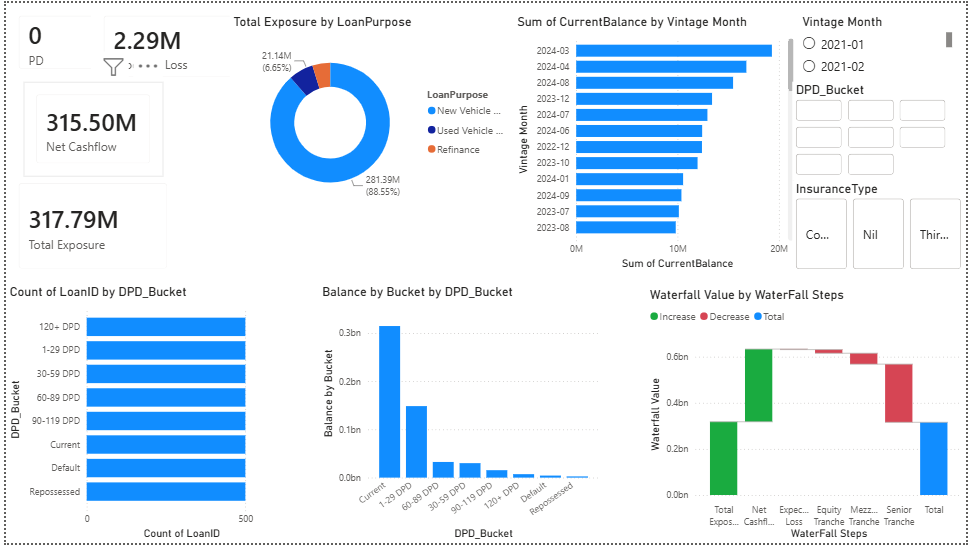

The dashboard page shown, as its layout file describes it:
{"tool":"powerbi","page":{"name":"Investor Reporting Dashboard","canvas":[1280,720],"ordinal":6},"visuals":[{"type":"cardVisual","fields":{"Data":["auto_loan_securitisation_data.PD"]},"box":[0,0,150.4,105.2],"z":0},{"type":"cardVisual","fields":{"Data":["auto_loan_securitisation_data.Total Exposure"]},"box":[0,223.6,232.7,148.2],"z":1000},{"type":"cardVisual","fields":{"Data":["auto_loan_securitisation_data.Expected Loss"]},"box":[112.5,0,212.8,116.2],"z":2000},{"type":"cardVisual","fields":{"Data":["auto_loan_securitisation_data.Net Cashflow"]},"box":[23.6,105.5,186.4,126.4],"z":3000},{"type":"donutChart","fields":{"Y":["auto_loan_securitisation_data.Total Exposure"],"Category":["auto_loan_securitisation_data.LoanPurpose"]},"box":[298.4,14.7,379.1,270.2],"z":4000},{"type":"clusteredBarChart","fields":{"Category":["dpd_snapshot_history.DPD_Bucket"],"Y":["CountNonNull(auto_loan_securitisation_data.LoanID)"]},"box":[0,375.4,376.6,344.8],"z":5000},{"type":"columnChart","fields":{"Category":["dpd_snapshot_history.DPD_Bucket"],"Y":["auto_loan_securitisation_data.Balance by Bucket"]},"box":[417,375.4,379.1,344.8],"z":6000},{"type":"barChart","fields":{"Category":["auto_loan_securitisation_data.Vintage Month"],"Y":["Sum(auto_loan_securitisation_data.CurrentBalance)"]},"box":[677.4,14.7,379.1,344.8],"z":7000},{"type":"waterfallChart","fields":{"Y":["auto_loan_securitisation_data.Waterfall Value"],"Category":["Table.WaterFall Steps"]},"box":[853.5,377.9,426.8,342.4],"z":8000},{"type":"listSlicer","fields":{"Values":["auto_loan_securitisation_data.Vintage Month"]},"box":[1056.5,14.7,210.3,90.5],"z":9000},{"type":"advancedSlicerVisual","fields":{"Values":["dpd_snapshot_history.DPD_Bucket"]},"box":[1048,105.2,210.3,130.8],"z":10000},{"type":"advancedSlicerVisual","fields":{"Values":["auto_loan_securitisation_data.InsuranceType"]},"box":[1048,236,232.3,123.5],"z":11000}]}

Visuals, with their boxes in screenshot pixels (x1, y1, x2, y2), scaled from the page's 1280x720 canvas onto the 971x546 screenshot:
cardVisual - auto_loan_securitisation_data.PD: 0,0,114,80
cardVisual - auto_loan_securitisation_data.Total Exposure: 0,170,177,282
cardVisual - auto_loan_securitisation_data.Expected Loss: 85,0,247,88
cardVisual - auto_loan_securitisation_data.Net Cashflow: 18,80,159,176
donutChart - auto_loan_securitisation_data.Total Exposure x auto_loan_securitisation_data.LoanPurpose: 226,11,514,216
clusteredBarChart - dpd_snapshot_history.DPD_Bucket x CountNonNull(auto_loan_securitisation_data.LoanID): 0,285,286,545
columnChart - dpd_snapshot_history.DPD_Bucket x auto_loan_securitisation_data.Balance by Bucket: 316,285,604,545
barChart - auto_loan_securitisation_data.Vintage Month x Sum(auto_loan_securitisation_data.CurrentBalance): 514,11,801,273
waterfallChart - auto_loan_securitisation_data.Waterfall Value x Table.WaterFall Steps: 647,287,970,545
listSlicer - auto_loan_securitisation_data.Vintage Month: 801,11,961,80
advancedSlicerVisual - dpd_snapshot_history.DPD_Bucket: 795,80,955,179
advancedSlicerVisual - auto_loan_securitisation_data.InsuranceType: 795,179,970,273
